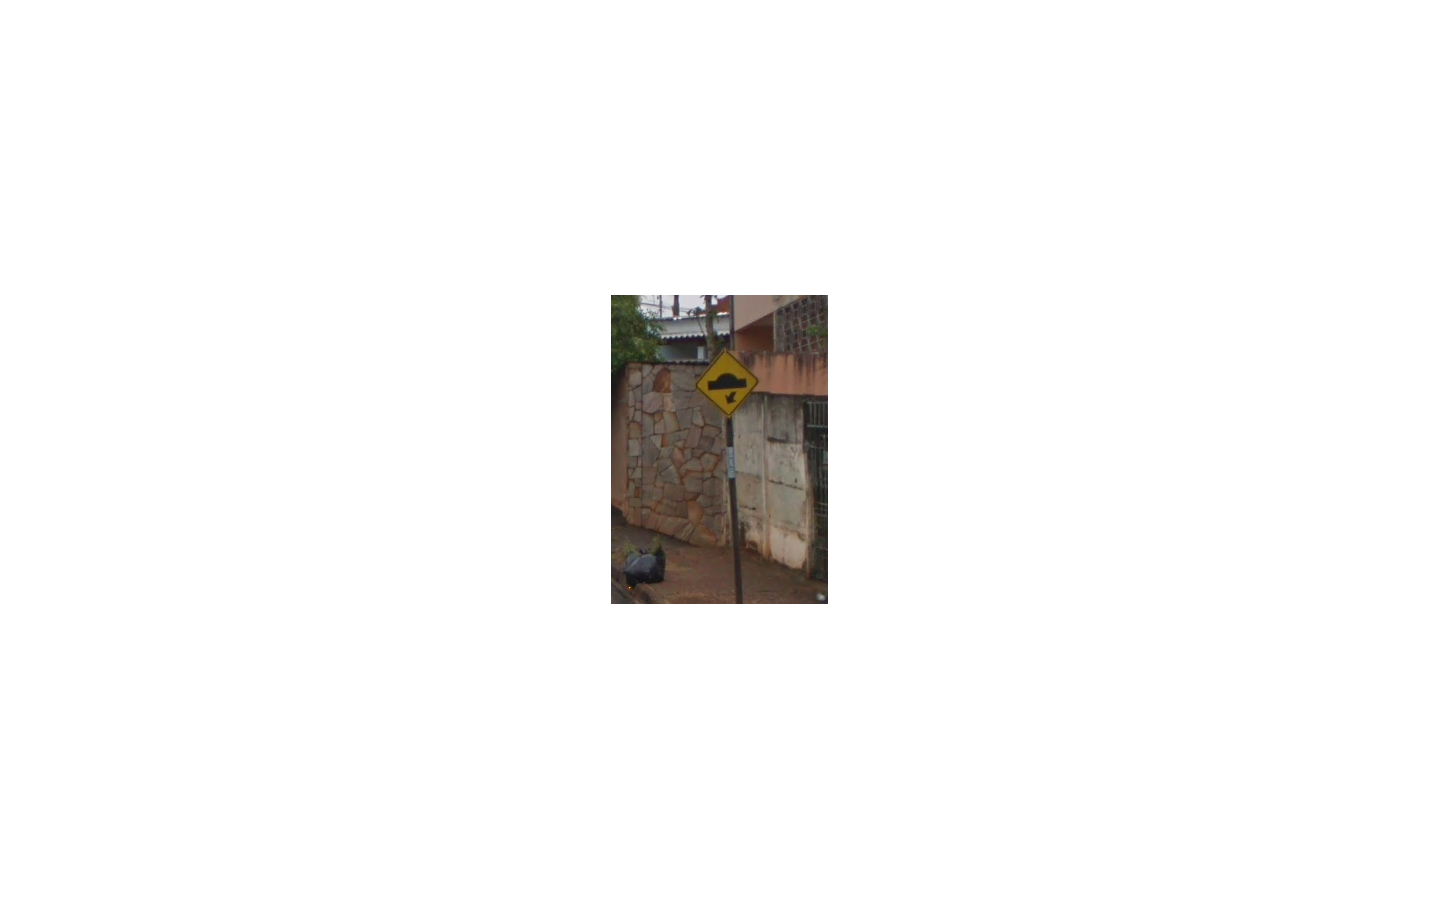lomb: (691, 345, 760, 419)
